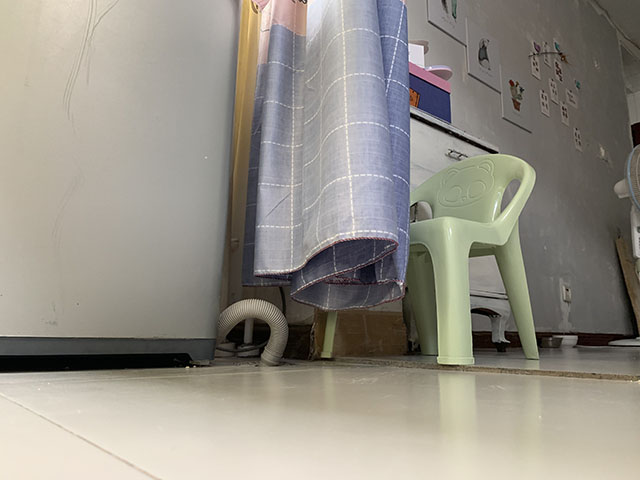cabinet: (409, 103, 513, 355)
curtain: (239, 1, 412, 314)
stool: (317, 153, 540, 367)
